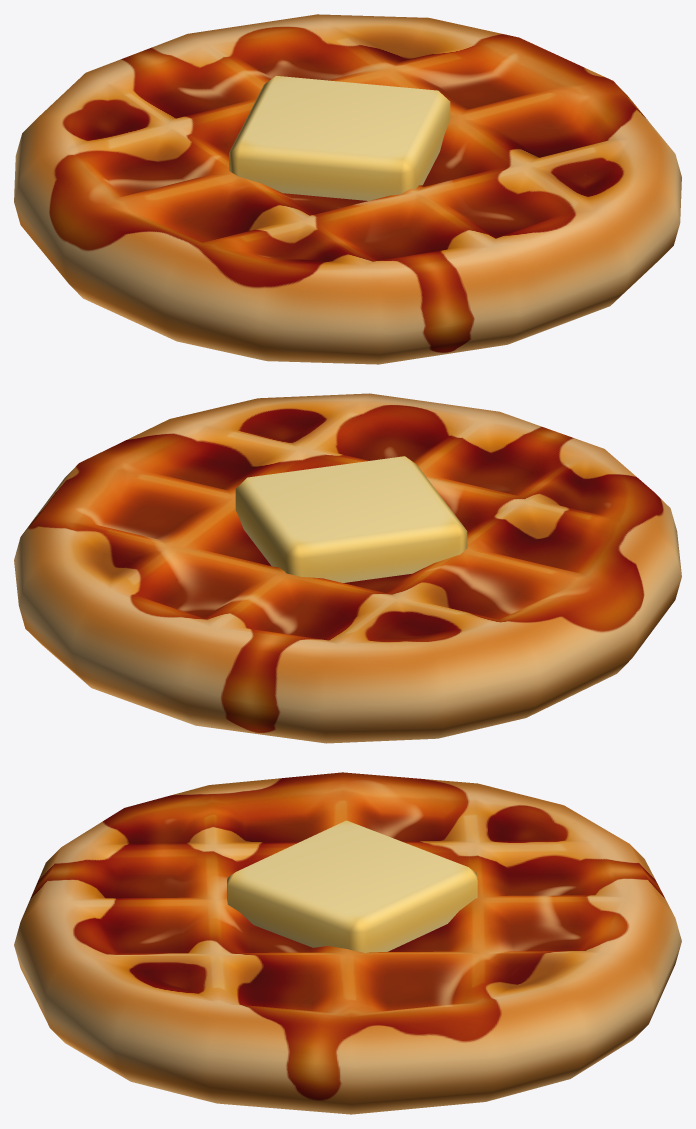
File: Waffle_Syrup.fbx
The picture shows the model from 3 angles, top to bottom: view 1: azimuth 30°, elevation 25°; view 2: azimuth 150°, elevation 25°; view 3: azimuth 270°, elevation 25°; orthographic projection.
Visible parts, largest first — view 1: Waffle_Syrup; view 2: Waffle_Syrup; view 3: Waffle_Syrup.
Part boxes in pixels (x1,y1,x2,y2): Waffle_Syrup: (14,14,681,364); Waffle_Syrup: (14,393,681,743); Waffle_Syrup: (14,772,681,1114).
Size of the model in its own units: 56.26 by 10.86 by 57.03.
